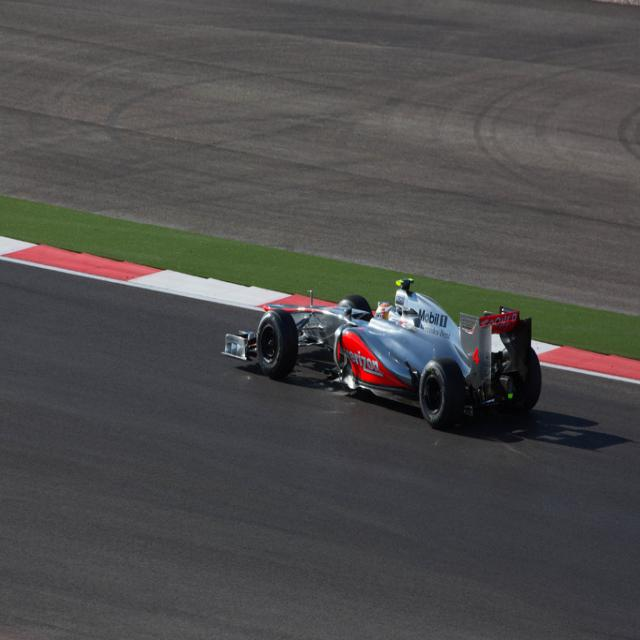car: (220, 266, 544, 426)
